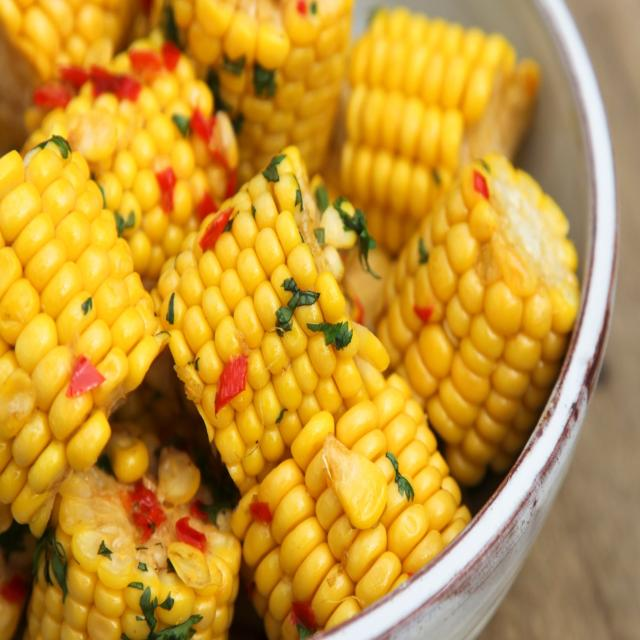corn: (155, 138, 394, 476), (361, 150, 595, 484), (0, 118, 169, 521), (232, 369, 467, 636)
